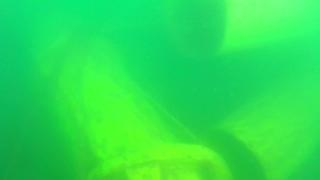pipe: (30, 30, 232, 180), (209, 79, 320, 179), (163, 1, 320, 59)
